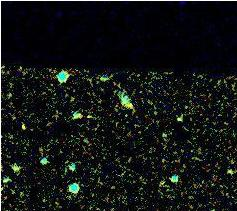star: (64, 99, 94, 129)
